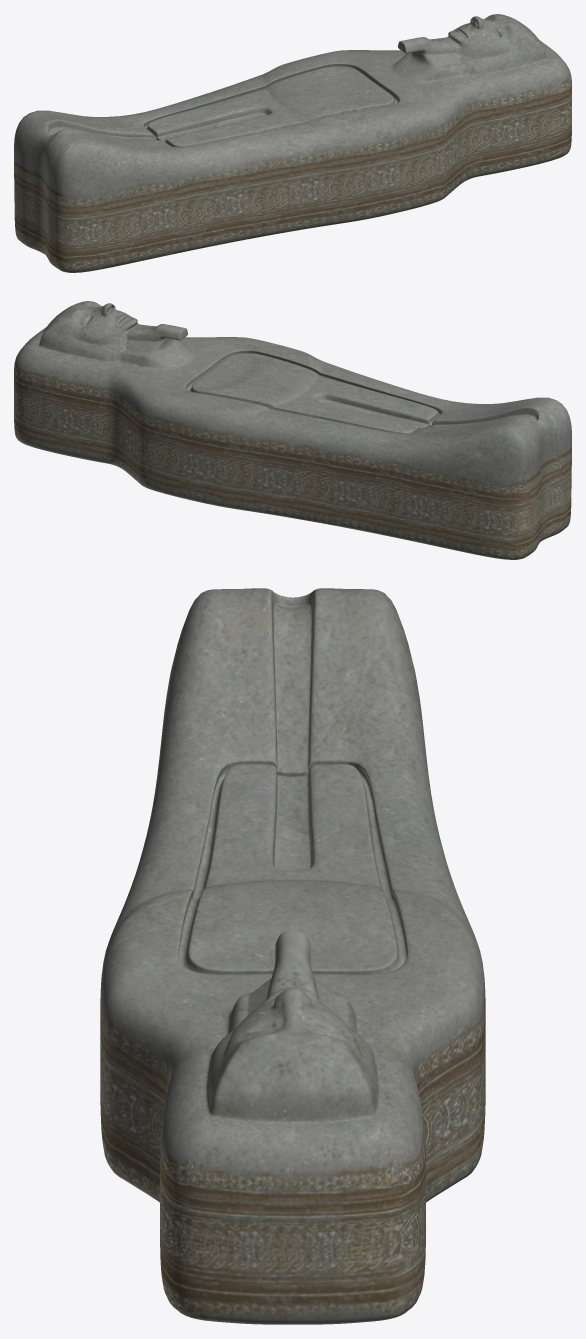
The model's file is Sarcofago.obj.
The picture shows the model from 3 angles, top to bottom: view 1: azimuth 30°, elevation 25°; view 2: azimuth 150°, elevation 25°; view 3: azimuth 270°, elevation 25°; orthographic projection. The views are drawn at different scales.
Parts seen in each view (by area): view 1: default; view 2: default; view 3: default.
Part boxes in pixels (x1=…): default: x1=14, y1=14, x2=571, y2=272; default: x1=14, y1=301, x2=571, y2=559; default: x1=100, y1=588, x2=485, y2=1324.
Bounding box in the file's own units: 2.9 × 0.7148 × 0.9347.
1 material, 1 textured.
